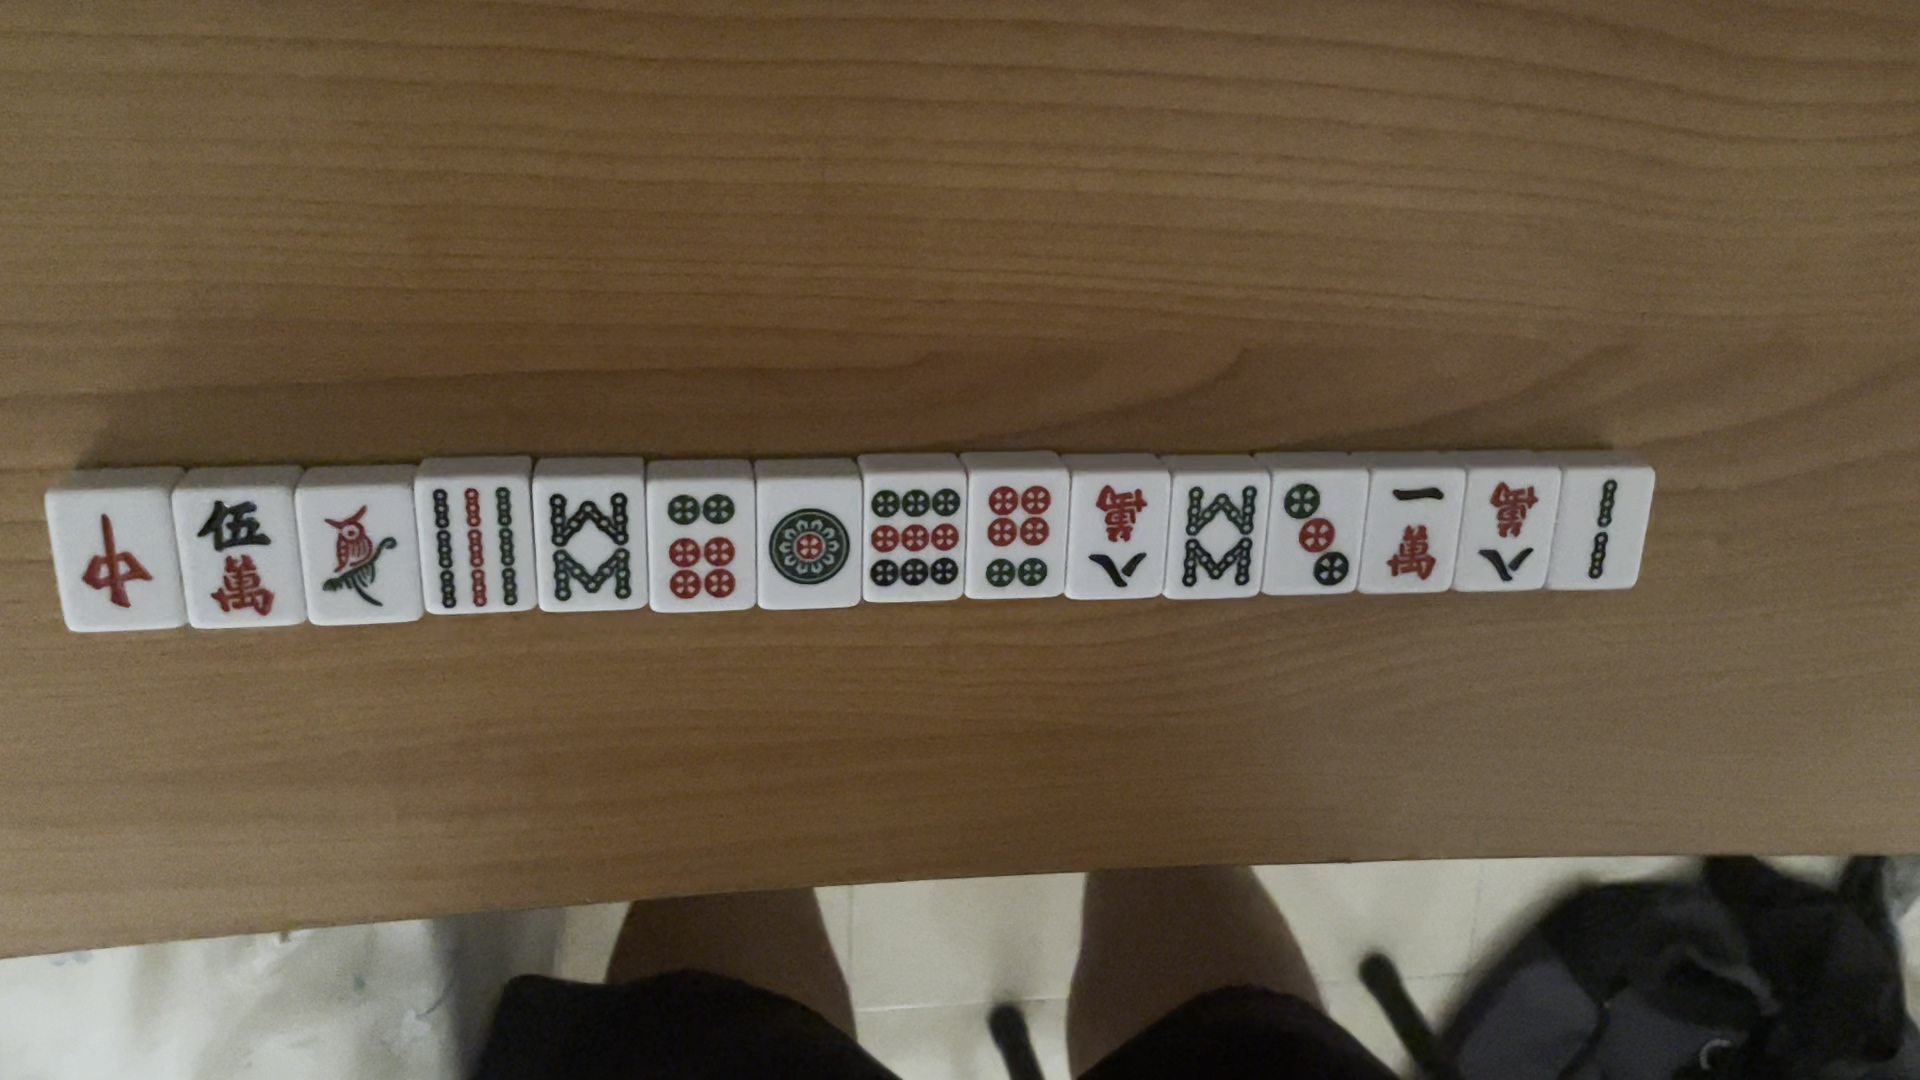b-1: (310, 496, 404, 620)
b-2: (1575, 472, 1631, 591)
b-8: (545, 487, 632, 601), (1178, 479, 1251, 592)
b-9: (425, 477, 520, 604)
c-1: (1377, 480, 1447, 593)
c-5: (193, 487, 277, 622)
c-8: (1080, 475, 1158, 601), (1473, 475, 1544, 593)
d-1: (767, 491, 852, 597)
d-3: (1280, 479, 1349, 595)
d-6: (977, 473, 1054, 599), (659, 483, 741, 597)
d-9: (864, 483, 964, 599)
honors-red: (76, 502, 158, 618)
